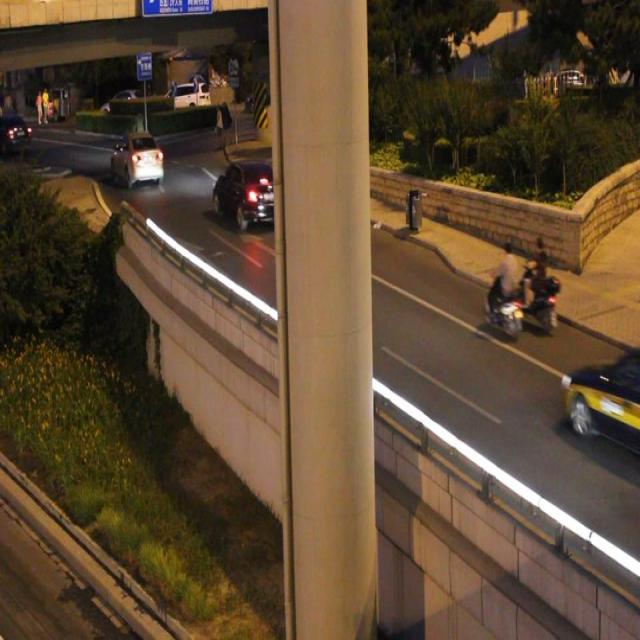car: (561, 339, 640, 456), (213, 156, 285, 232)
